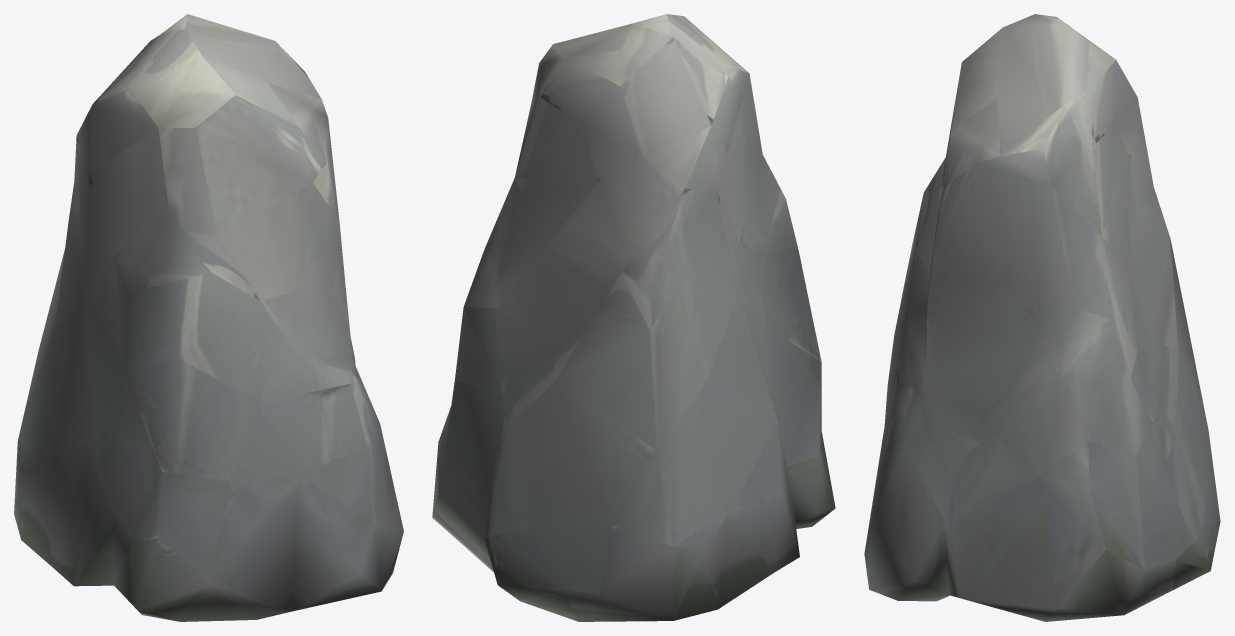
File: s-pierre-air-semis.glb
3 views of the same model, side by side, from view 1: azimuth 30°, elevation 25°; view 2: azimuth 150°, elevation 25°; view 3: azimuth 270°, elevation 25° (orthographic).
Visible parts, largest first — view 1: s-pierre-eau-semis; view 2: s-pierre-eau-semis; view 3: s-pierre-eau-semis.
Part boxes in pixels (bbox=[...]): s-pierre-eau-semis: bbox=[14, 14, 403, 621]; s-pierre-eau-semis: bbox=[432, 14, 835, 621]; s-pierre-eau-semis: bbox=[864, 14, 1220, 621].
Size of the model in its own units: 1.19 by 1.98 by 1.17.
Materials: 1 (1 with a texture image).
